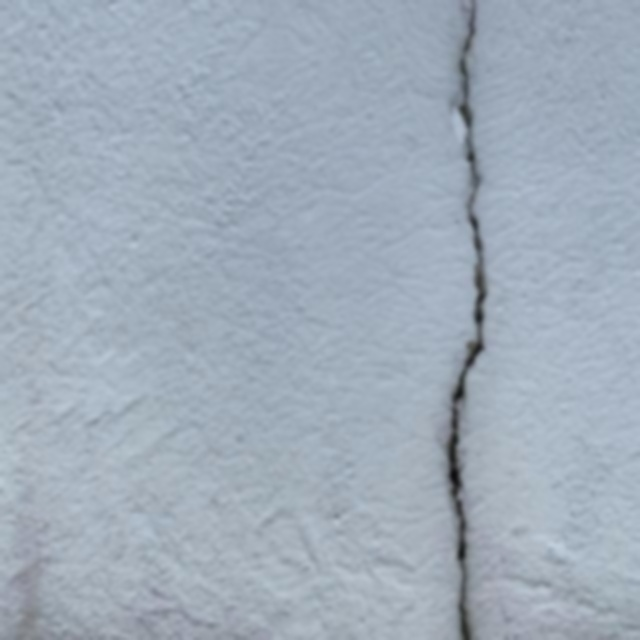SurfaceCrack: (395, 1, 527, 640)
